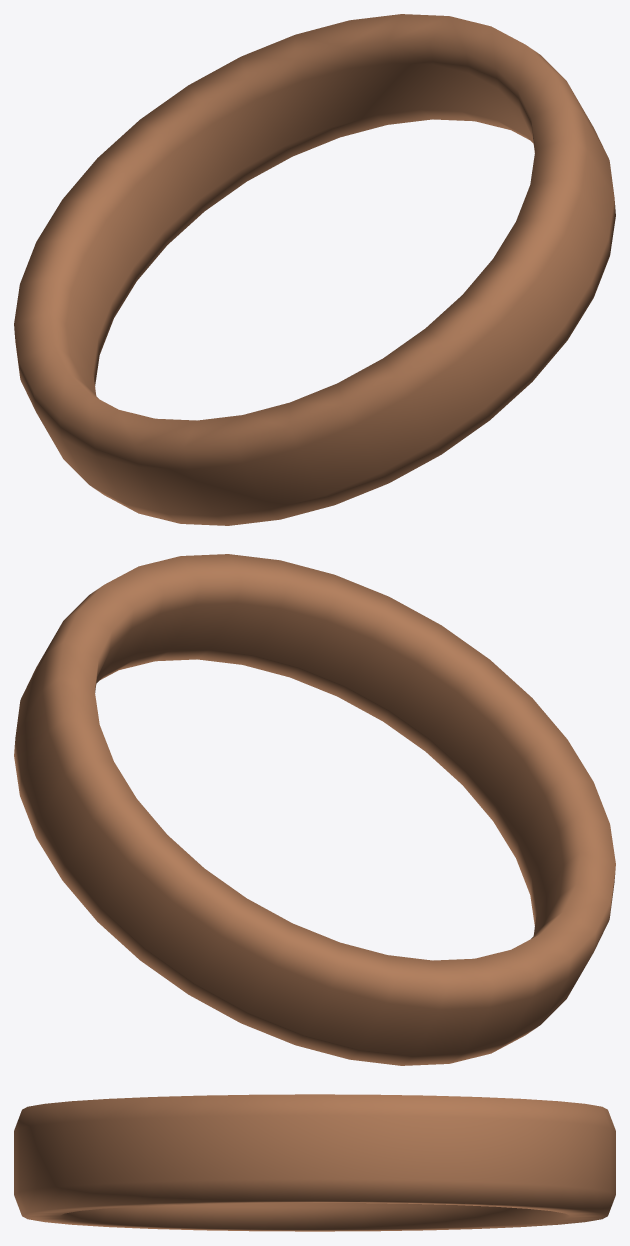
File: item_item137.glb
3 renders of one model, top to bottom at view 1: azimuth 30°, elevation 25°; view 2: azimuth 150°, elevation 25°; view 3: azimuth 270°, elevation 25°, orthographic. The views are drawn at different scales.
Parts seen in each view (by area): view 1: jewellery_item137; view 2: jewellery_item137; view 3: jewellery_item137.
Boxes of the visible parts, left/top/right/bottom form: jewellery_item137: left=14, top=14, right=615, bottom=525; jewellery_item137: left=14, top=554, right=615, bottom=1065; jewellery_item137: left=14, top=1094, right=615, bottom=1231.
Size of the model in its own units: 0.7447 by 0.4846 by 0.79.
